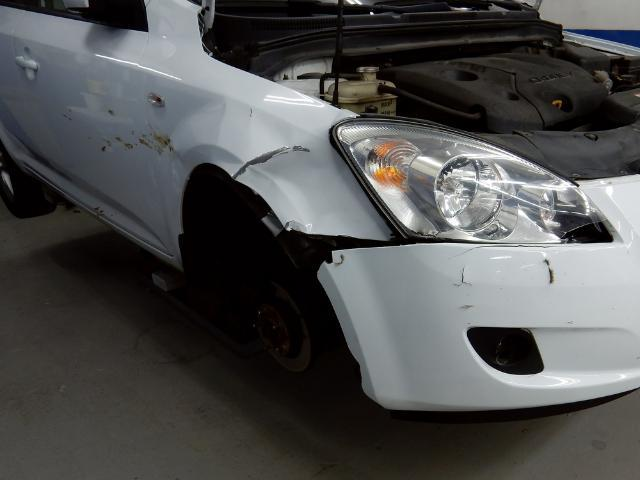crack: (448, 245, 582, 260), (451, 265, 473, 286)
dent: (234, 109, 367, 239)
dislocated part: (288, 229, 441, 280)
lamp broken: (333, 119, 619, 245)
no part: (201, 21, 640, 181)
